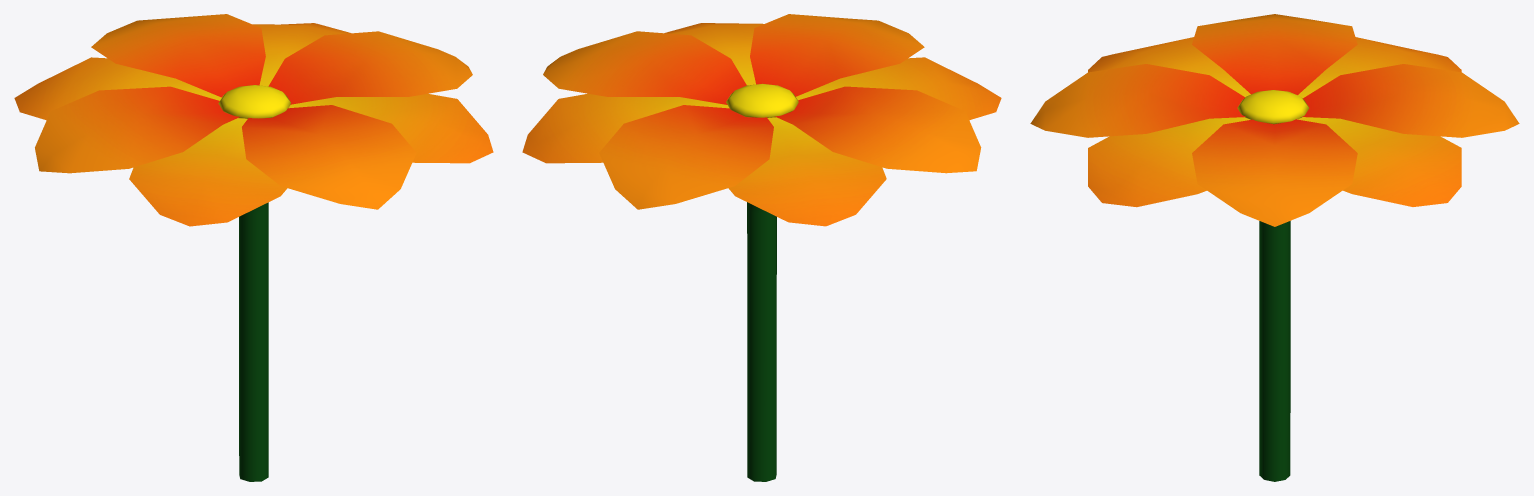
The model's file is Little_Flower_size1.FBX.
3 views of the same model, side by side, from view 1: azimuth 30°, elevation 25°; view 2: azimuth 150°, elevation 25°; view 3: azimuth 270°, elevation 25° (orthographic).
Parts seen in each view (by area): view 1: Little_flower_size1; view 2: Little_flower_size1; view 3: Little_flower_size1.
Part boxes in pixels (x1=…): Little_flower_size1: x1=14, y1=14, x2=493, y2=481; Little_flower_size1: x1=522, y1=14, x2=1001, y2=481; Little_flower_size1: x1=1030, y1=14, x2=1519, y2=481.
Bounding box in the file's own units: 6.16 × 5.34 × 6.17.
